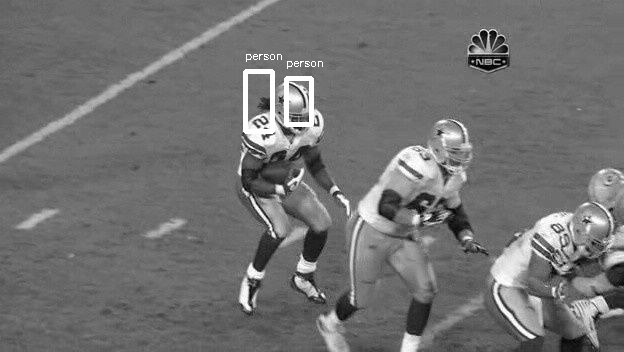person: (277, 84, 313, 130), (276, 84, 312, 130), (278, 84, 314, 130), (277, 83, 313, 129), (277, 85, 313, 131)
target_negative: (254, 183, 622, 259), (418, 13, 587, 113), (334, 294, 484, 331), (504, 60, 619, 108), (12, 99, 515, 107), (578, 113, 603, 145)
